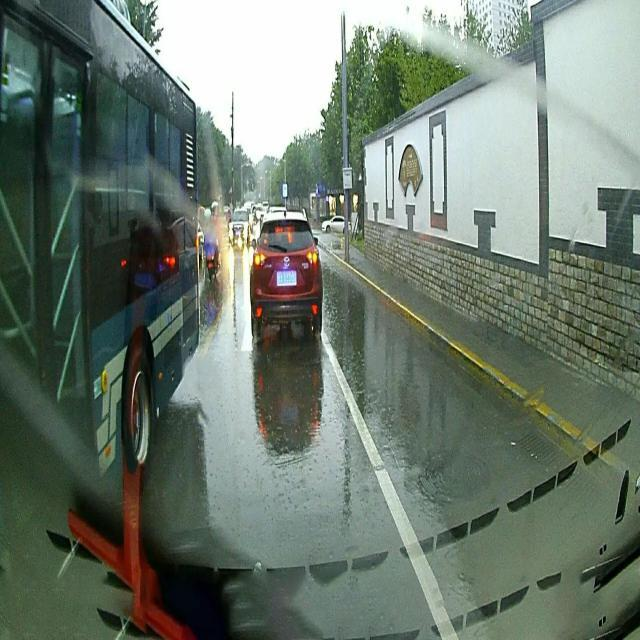car: (248, 206, 322, 336), (322, 214, 352, 234)
